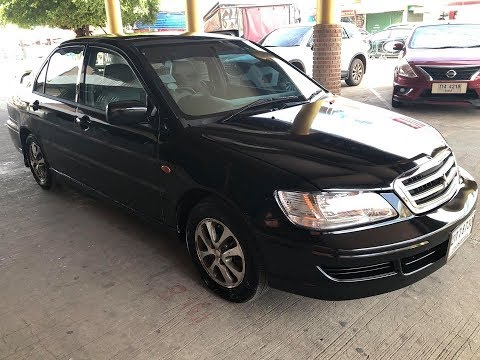sedan: (6, 27, 477, 303)
